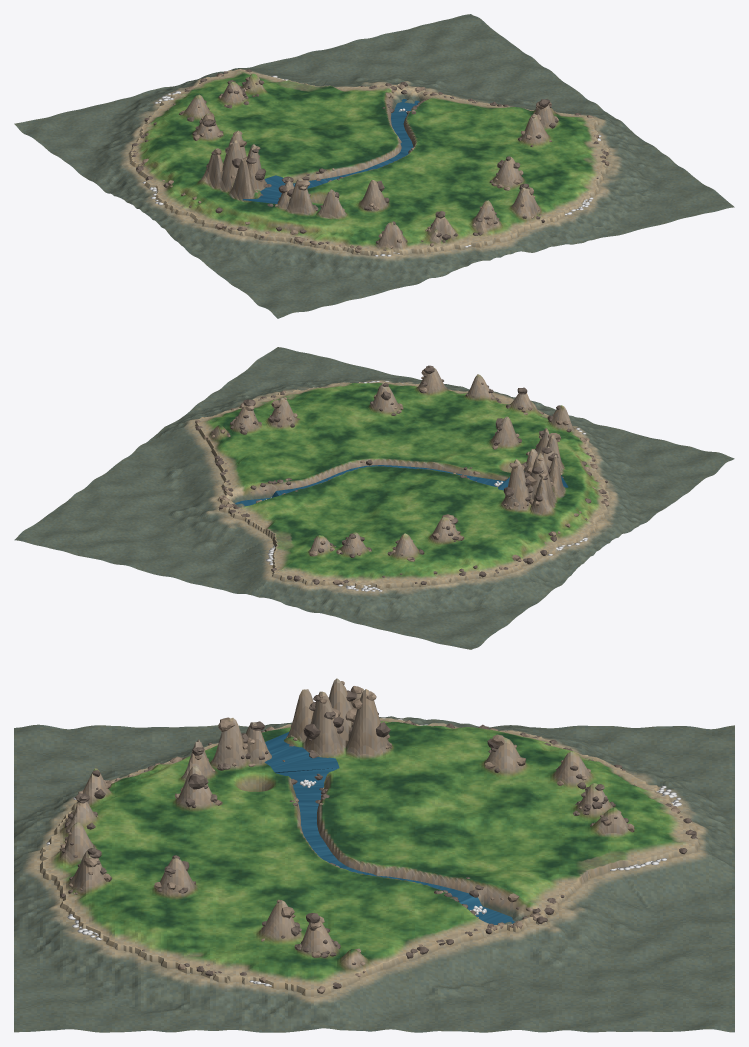
The model's file is Terrain_P3.fbx.
3 renders of one model, top to bottom at view 1: azimuth 30°, elevation 25°; view 2: azimuth 150°, elevation 25°; view 3: azimuth 270°, elevation 25°, orthographic. The views are drawn at different scales.
Visible parts, largest first — view 1: Ground, River; view 2: Ground, River; view 3: Ground, River, Surf.
Part boxes in pixels (<box>): Ground: <box>14,14,734,318</box>; River: <box>243,99,419,203</box>; Ground: <box>14,347,734,649</box>; River: <box>235,465,568,506</box>; Ground: <box>14,678,734,1032</box>; River: <box>264,732,515,924</box>; Surf: <box>46,717,681,986</box>.
Size of what is drawn, in the model's own units: 64000 by 9981 by 64000.
